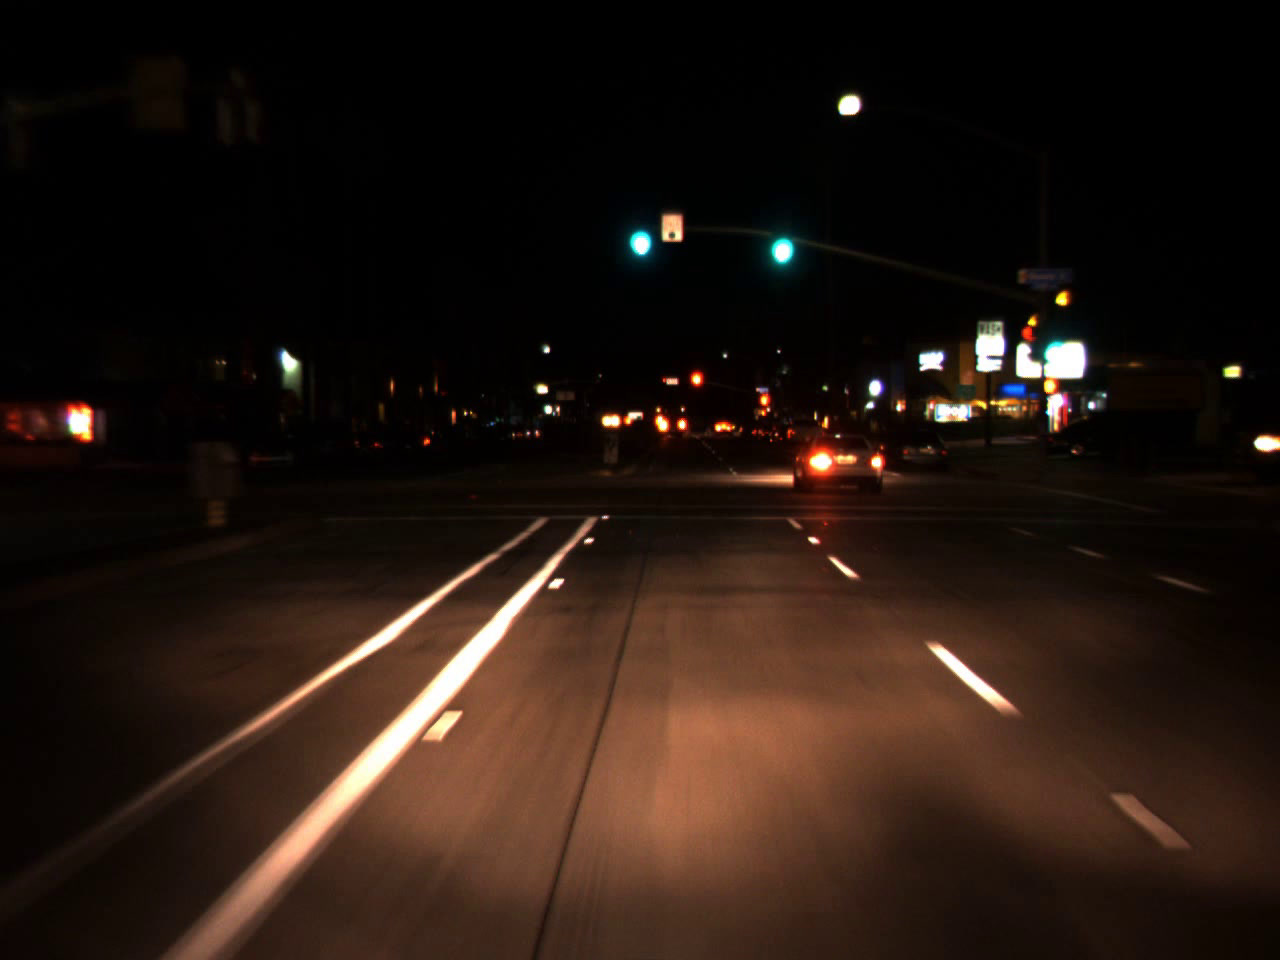go: (761, 203, 798, 275), (620, 199, 656, 265), (1041, 320, 1073, 371)
stop: (688, 368, 703, 405), (758, 391, 771, 423)
